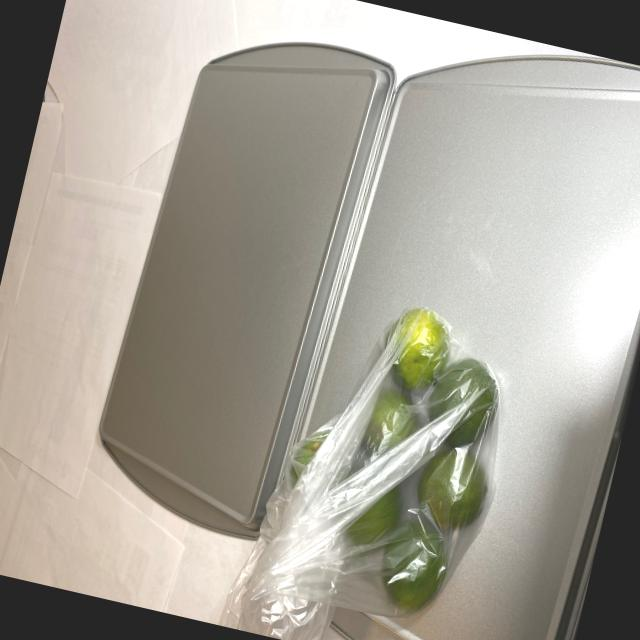lemon: (264, 286, 512, 630)
